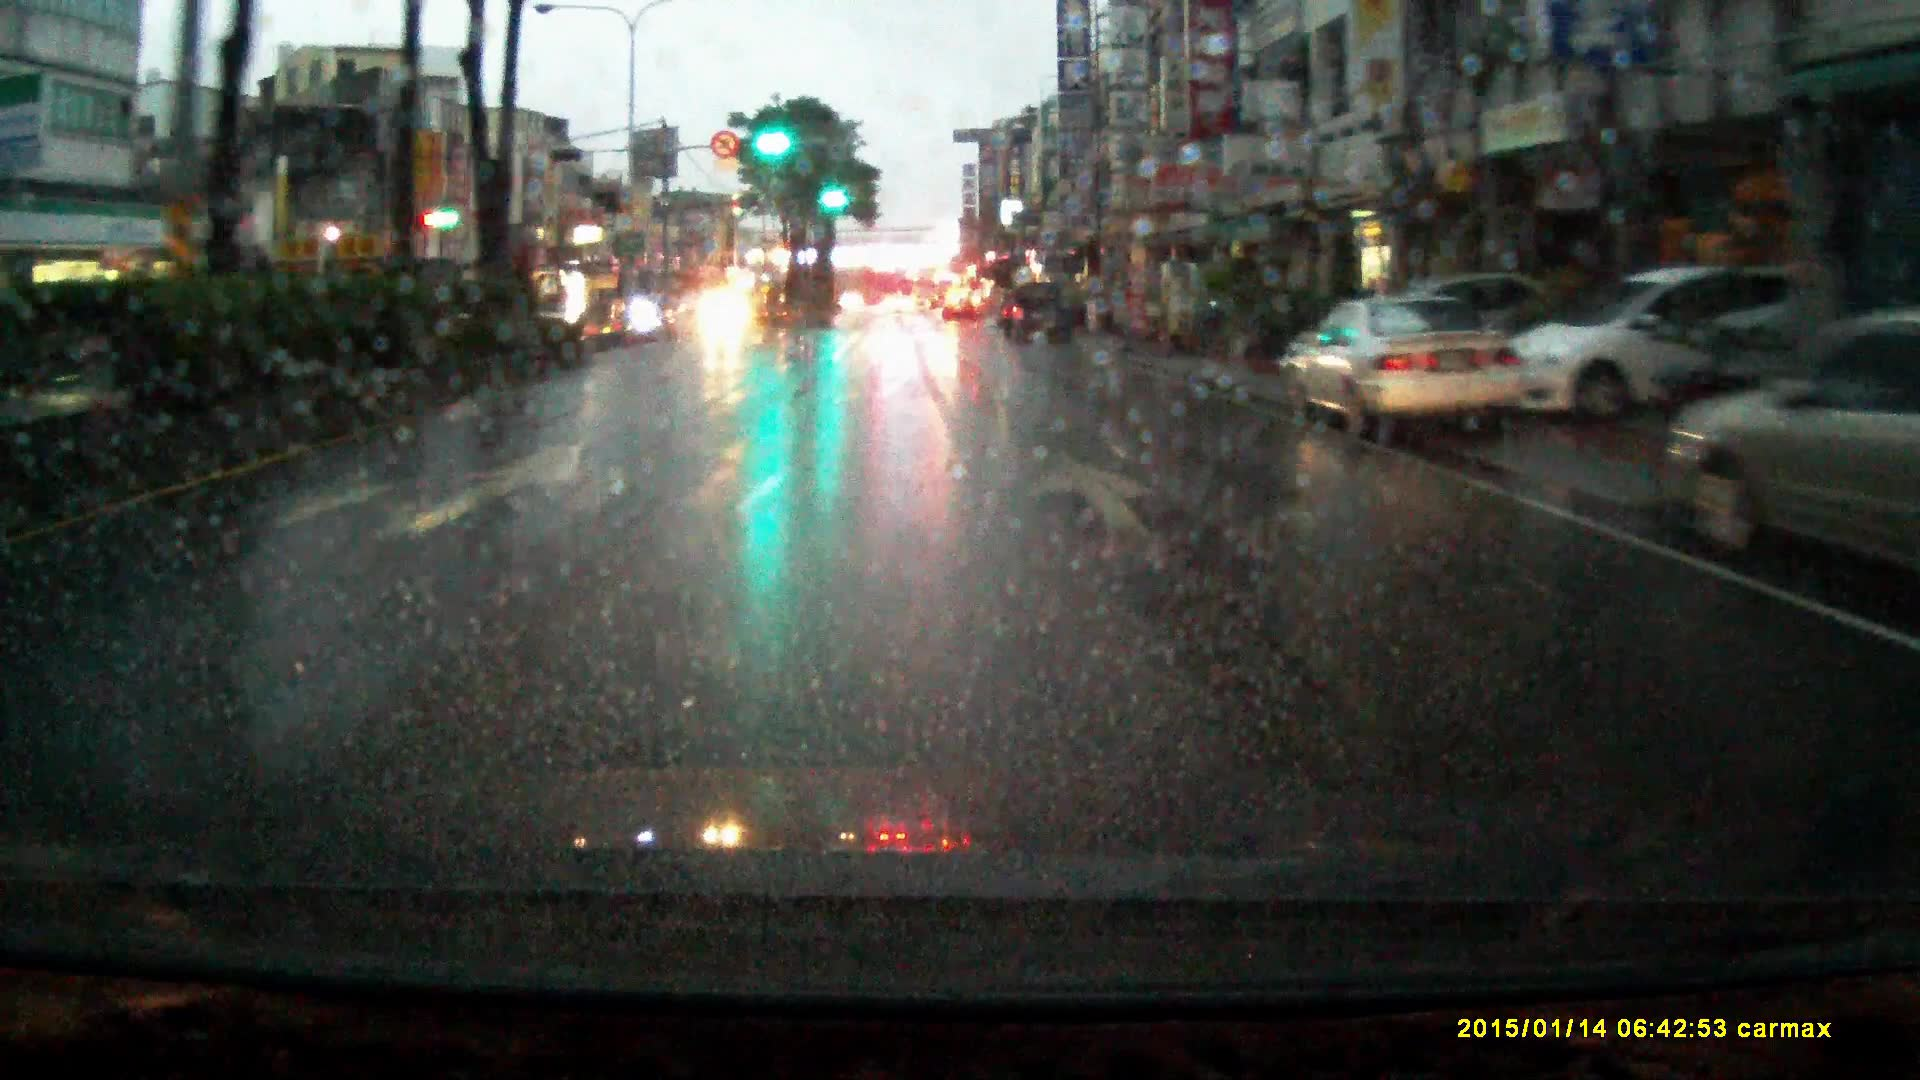vehicle: (1676, 311, 1920, 574), (1514, 262, 1816, 425), (1274, 295, 1531, 444), (1005, 284, 1077, 349), (690, 287, 756, 345), (616, 299, 665, 334), (913, 272, 942, 316), (943, 291, 978, 323), (884, 298, 916, 319)
